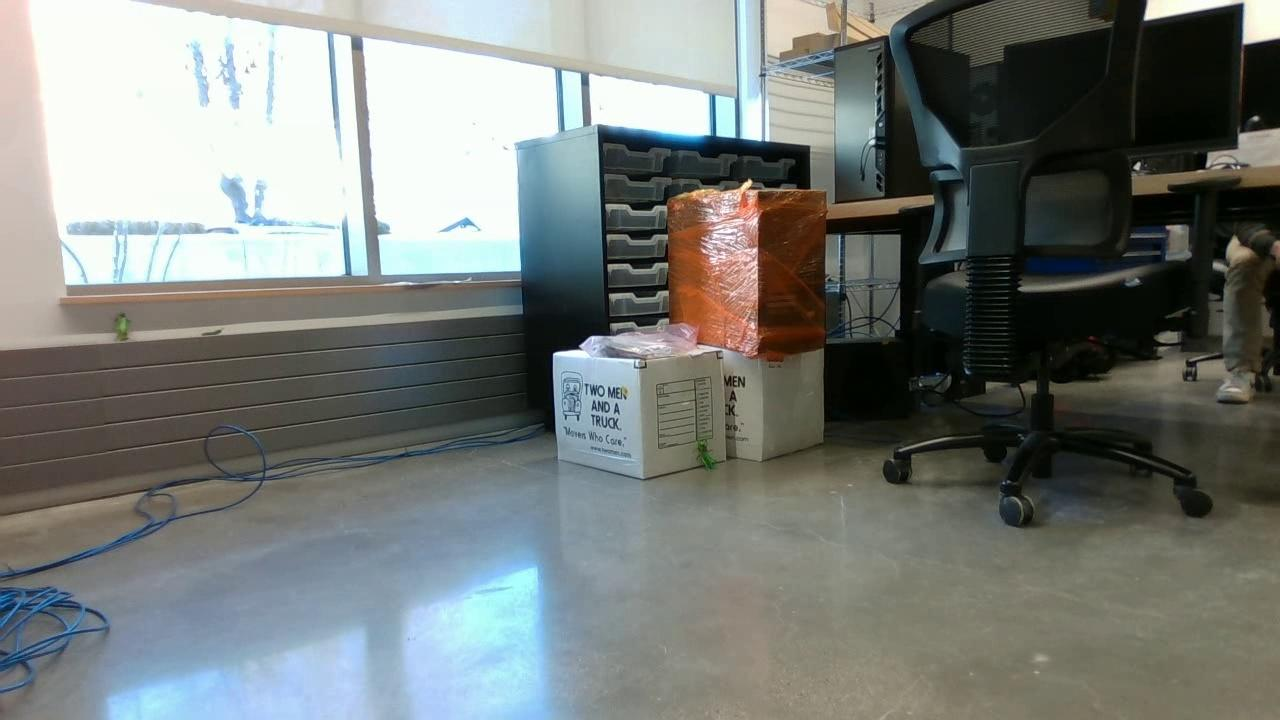grasshopper: (697, 441, 715, 471), (113, 314, 132, 341)
